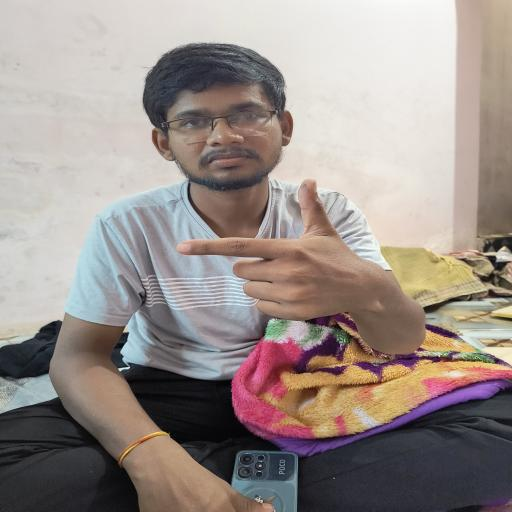OK: (160, 173, 413, 339)
